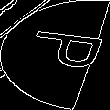P_E: (8, 32, 102, 78)
